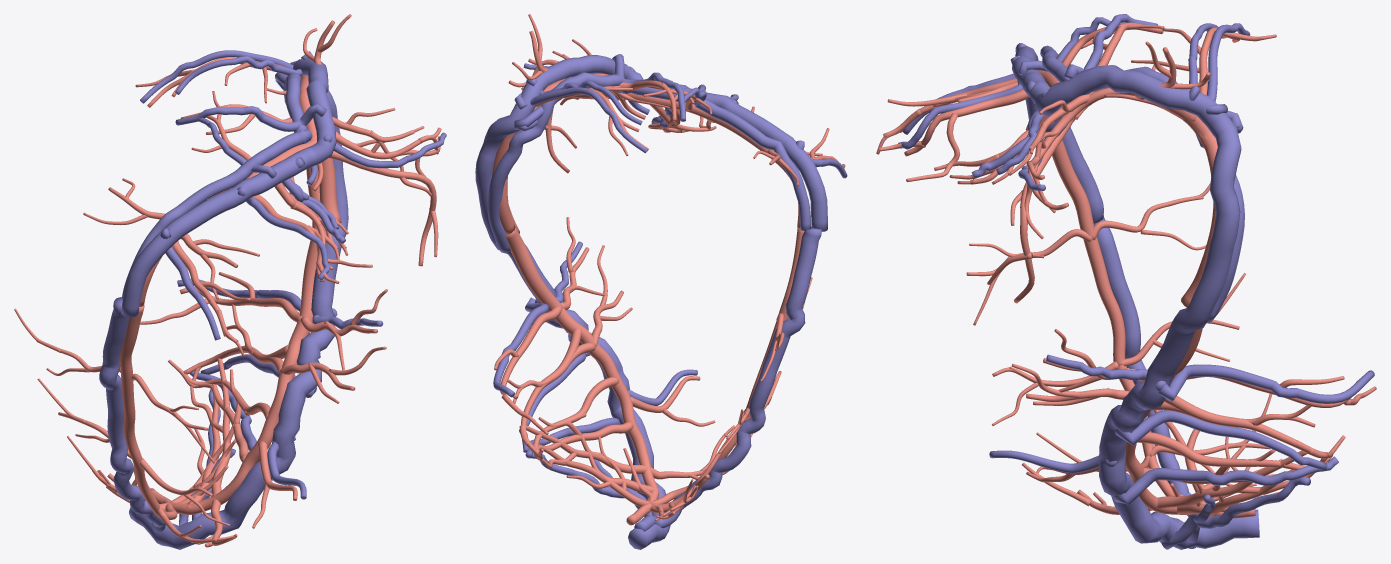
The model's file is vessels_14.glb.
The picture shows the model from 3 angles, left to right: view 1: azimuth 30°, elevation 25°; view 2: azimuth 150°, elevation 25°; view 3: azimuth 270°, elevation 25°; orthographic projection. The views are drawn at different scales.
Visible parts, largest first — view 1: Renderer Node; view 2: Renderer Node; view 3: Renderer Node.
Boxes of the visible parts, box(x1,y1,x2,y2) form: Renderer Node: box(14, 14, 446, 549); Renderer Node: box(475, 14, 847, 549); Renderer Node: box(876, 14, 1376, 549).
Bounding box in the file's own units: 88.35 × 119 × 90.66.
